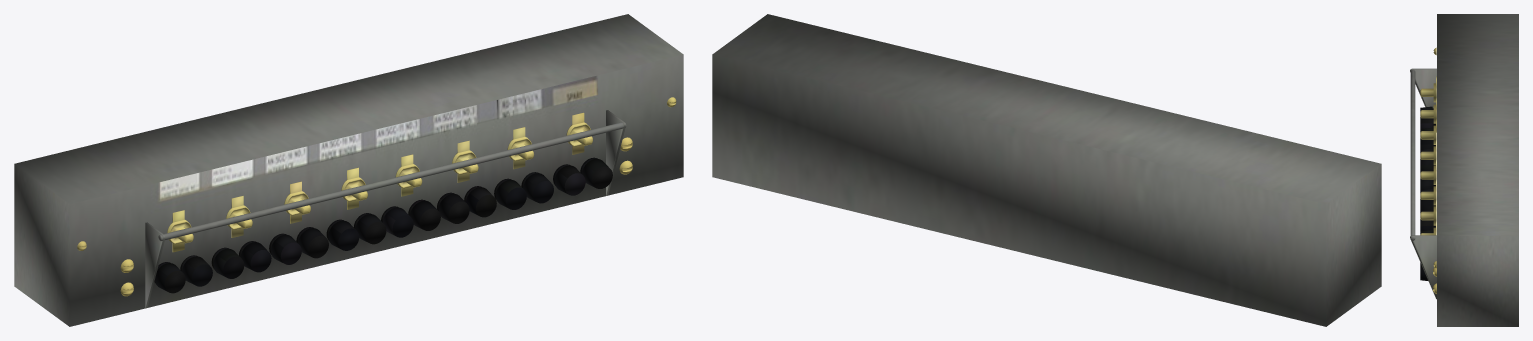
The model's file is fusepanel.obj.
3 views of the same model, side by side, from view 1: azimuth 30°, elevation 25°; view 2: azimuth 150°, elevation 25°; view 3: azimuth 270°, elevation 25° (orthographic). The views are drawn at different scales.
Parts seen in each view (by area): view 1: fusepanel.obj; view 2: fusepanel.obj; view 3: fusepanel.obj.
Boxes of the visible parts, x1=… form: fusepanel.obj: x1=14, y1=14, x2=683, y2=326; fusepanel.obj: x1=712, y1=14, x2=1381, y2=326; fusepanel.obj: x1=1410, y1=14, x2=1518, y2=326.
Size of the model in its own units: 4.14 by 0.7915 by 0.8584.
